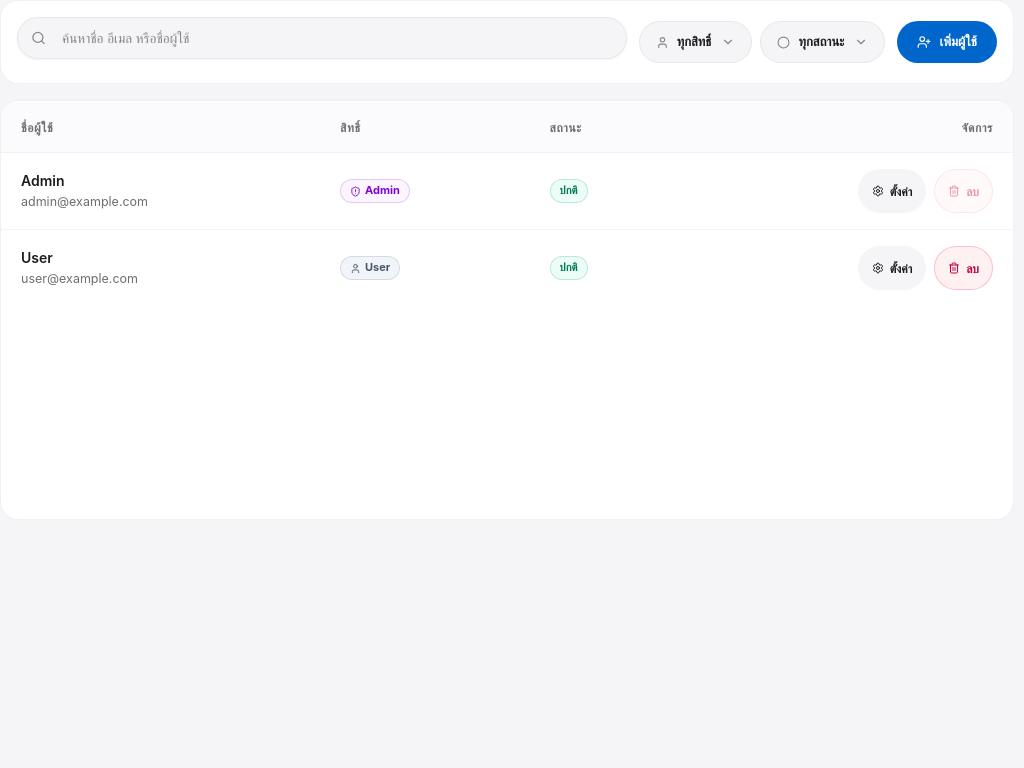
Test case: UserManagement — create › validates the password before spending a request
expect the text "admin@example.com" is shown: met, box [21,194,148,209]
Click the button "เพิ่มผู้ใช้" at (947, 42), box [898,21,997,63]
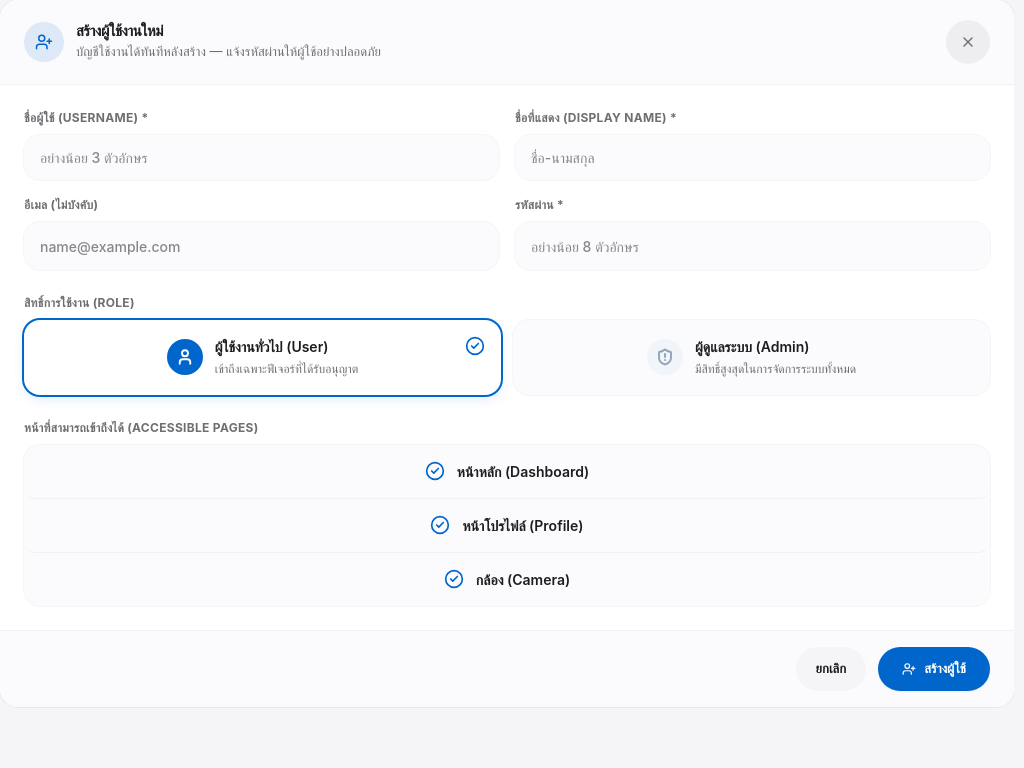
Type "newbie" into the field labelled "ชื่อผู้ใช้ (Username) *" at (262, 158), box [24,135,499,180]
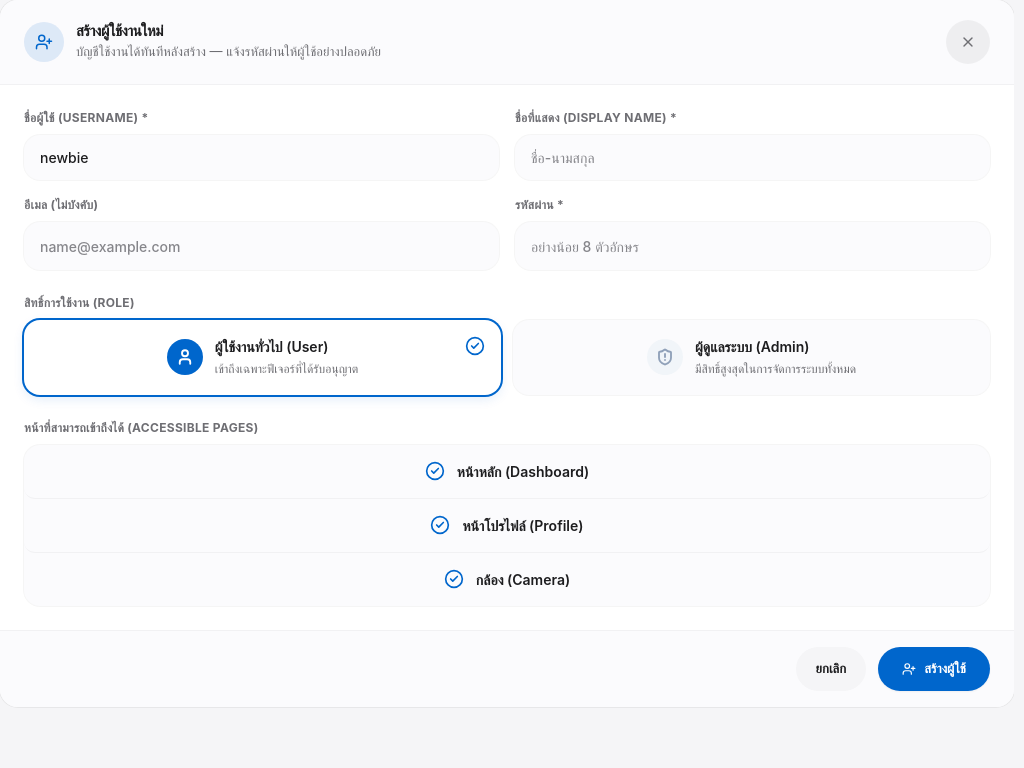
Type "New Bie" into the field labelled "ชื่อที่แสดง (Display name) *" at (752, 158), box [515,135,990,180]
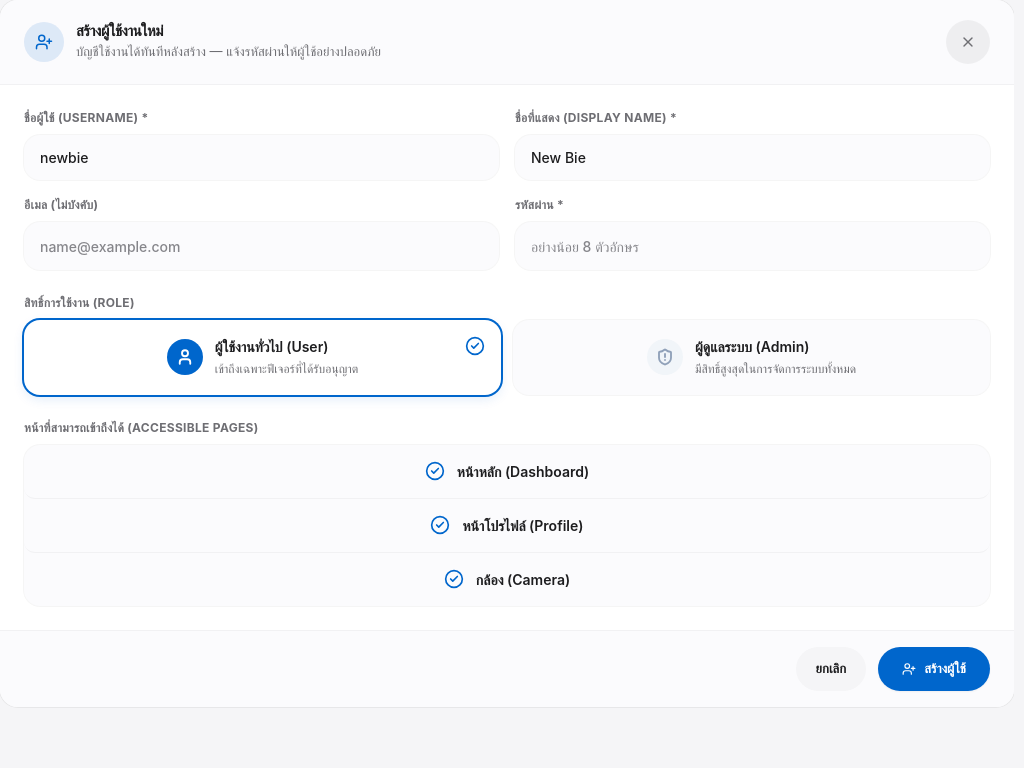
Type "newbie@example.com" into the field labelled "อีเมล (ไม่บังคับ)" at (262, 246), box [24,222,499,270]
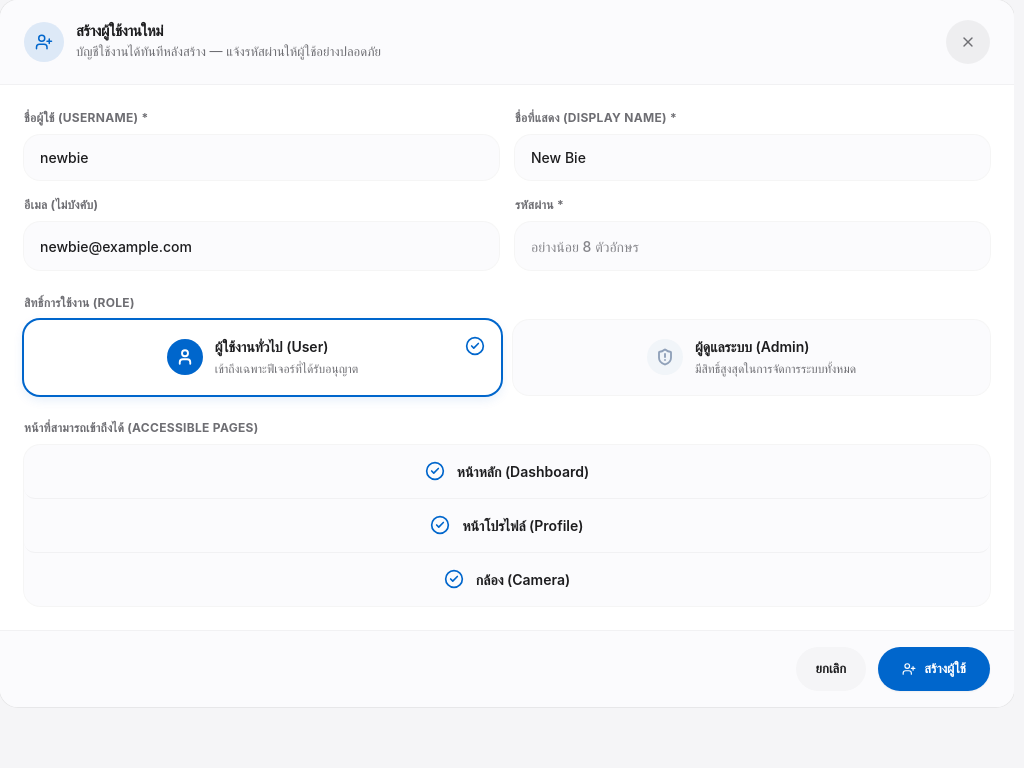
Type "short" into the password field labelled "รหัสผ่าน *" at (752, 246), box [515,222,990,270]
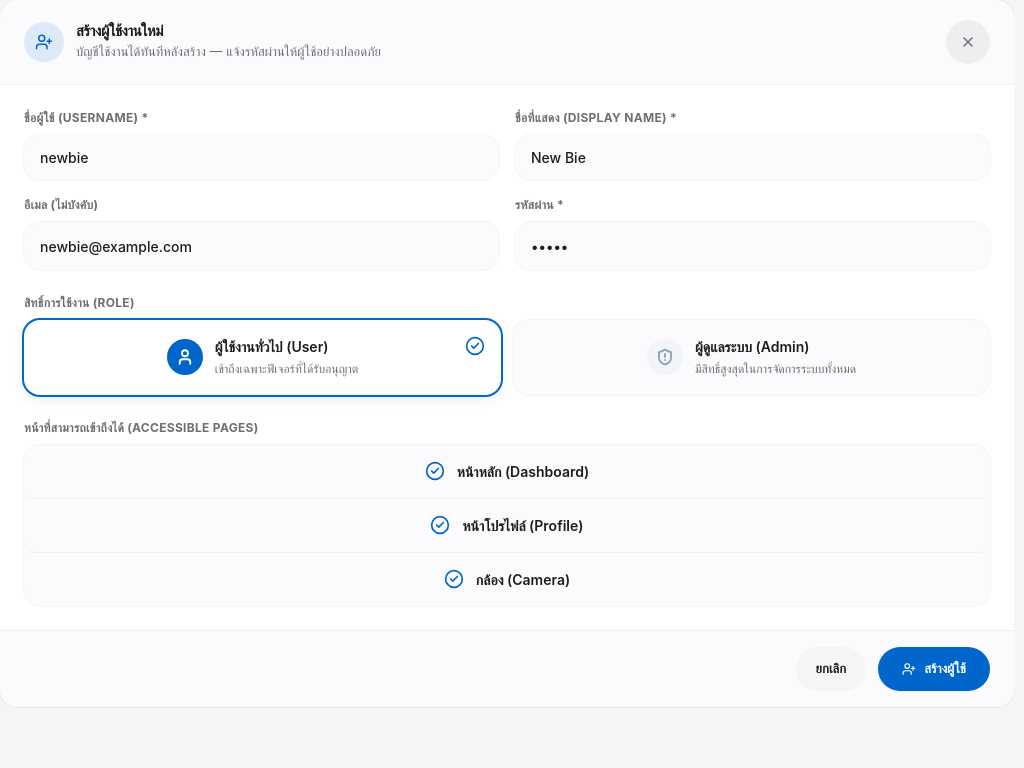
Click the button "สร้างผู้ใช้" at (934, 668), box [878,646,990,690]
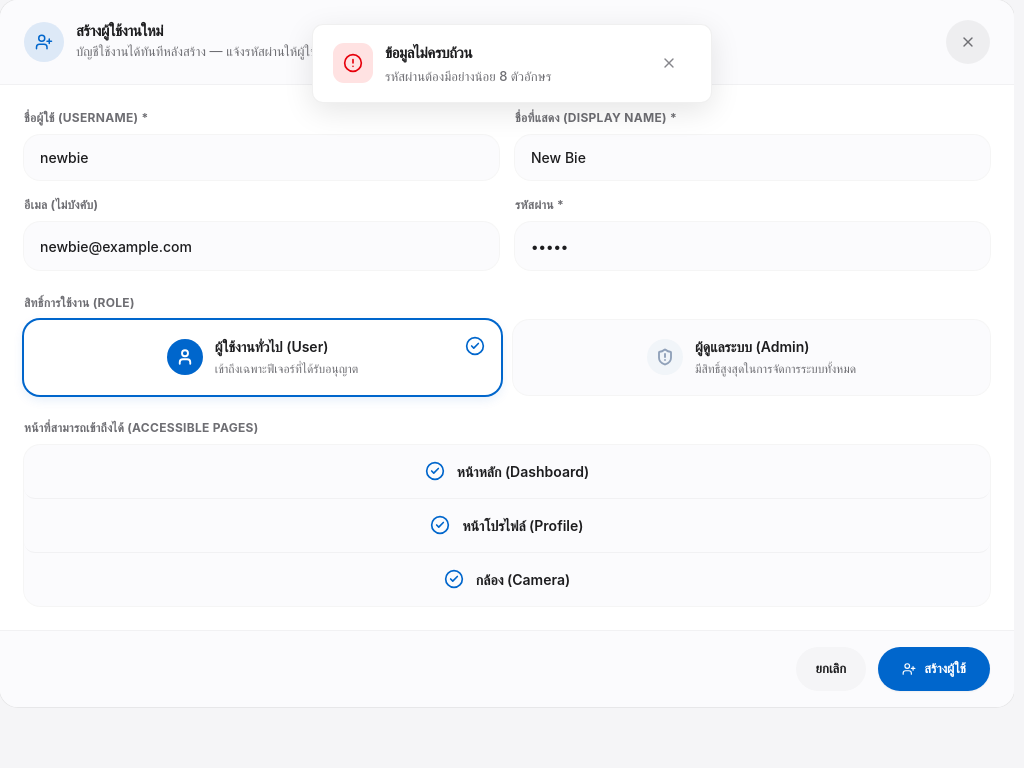
expect the text "รหัสผ่านต้องมีอย่างน้อย 8 ตัวอักษร" is shown: met, box [385,68,551,84]
